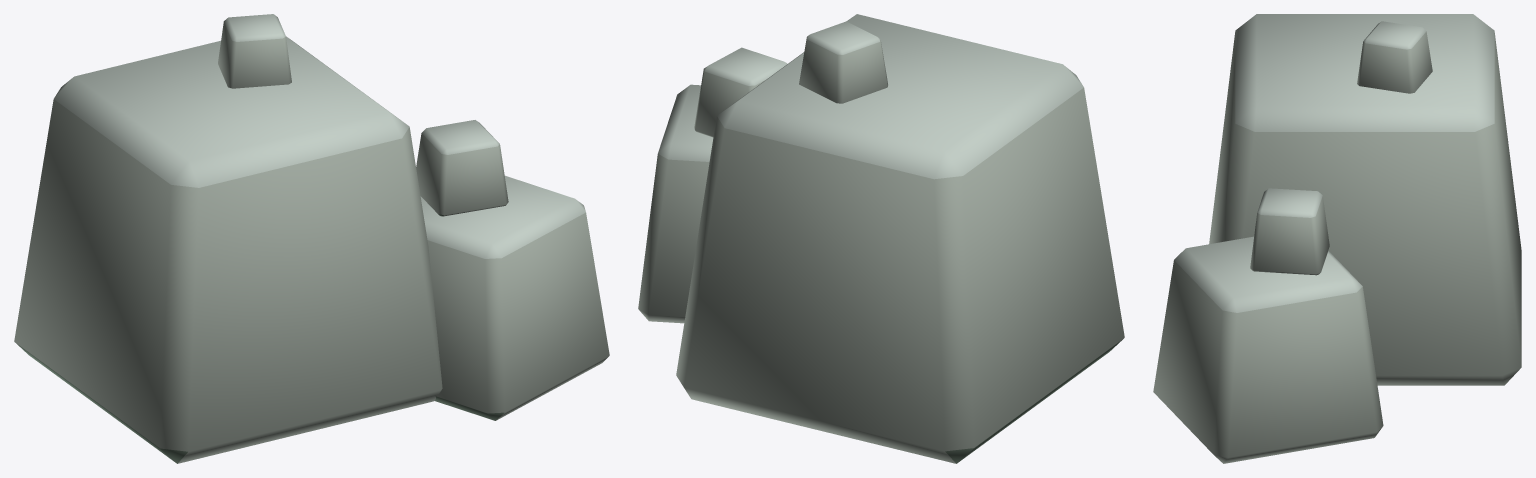
File: formedRock-05_col.fbx
3 renders of one model, left to right at view 1: azimuth 30°, elevation 25°; view 2: azimuth 150°, elevation 25°; view 3: azimuth 270°, elevation 25°, orthographic. The views are drawn at different scales.
Visible parts, largest first — view 1: formedRock-05.col; view 2: formedRock-05.col; view 3: formedRock-05.col.
Boxes of the visible parts, x1,y1,x2,y2 form: formedRock-05.col: [14, 14, 609, 463]; formedRock-05.col: [638, 14, 1124, 463]; formedRock-05.col: [1153, 14, 1521, 463].
Bounding box in the file's own units: 0.2583 × 0.1839 × 0.1958.
1 material, 1 textured.
